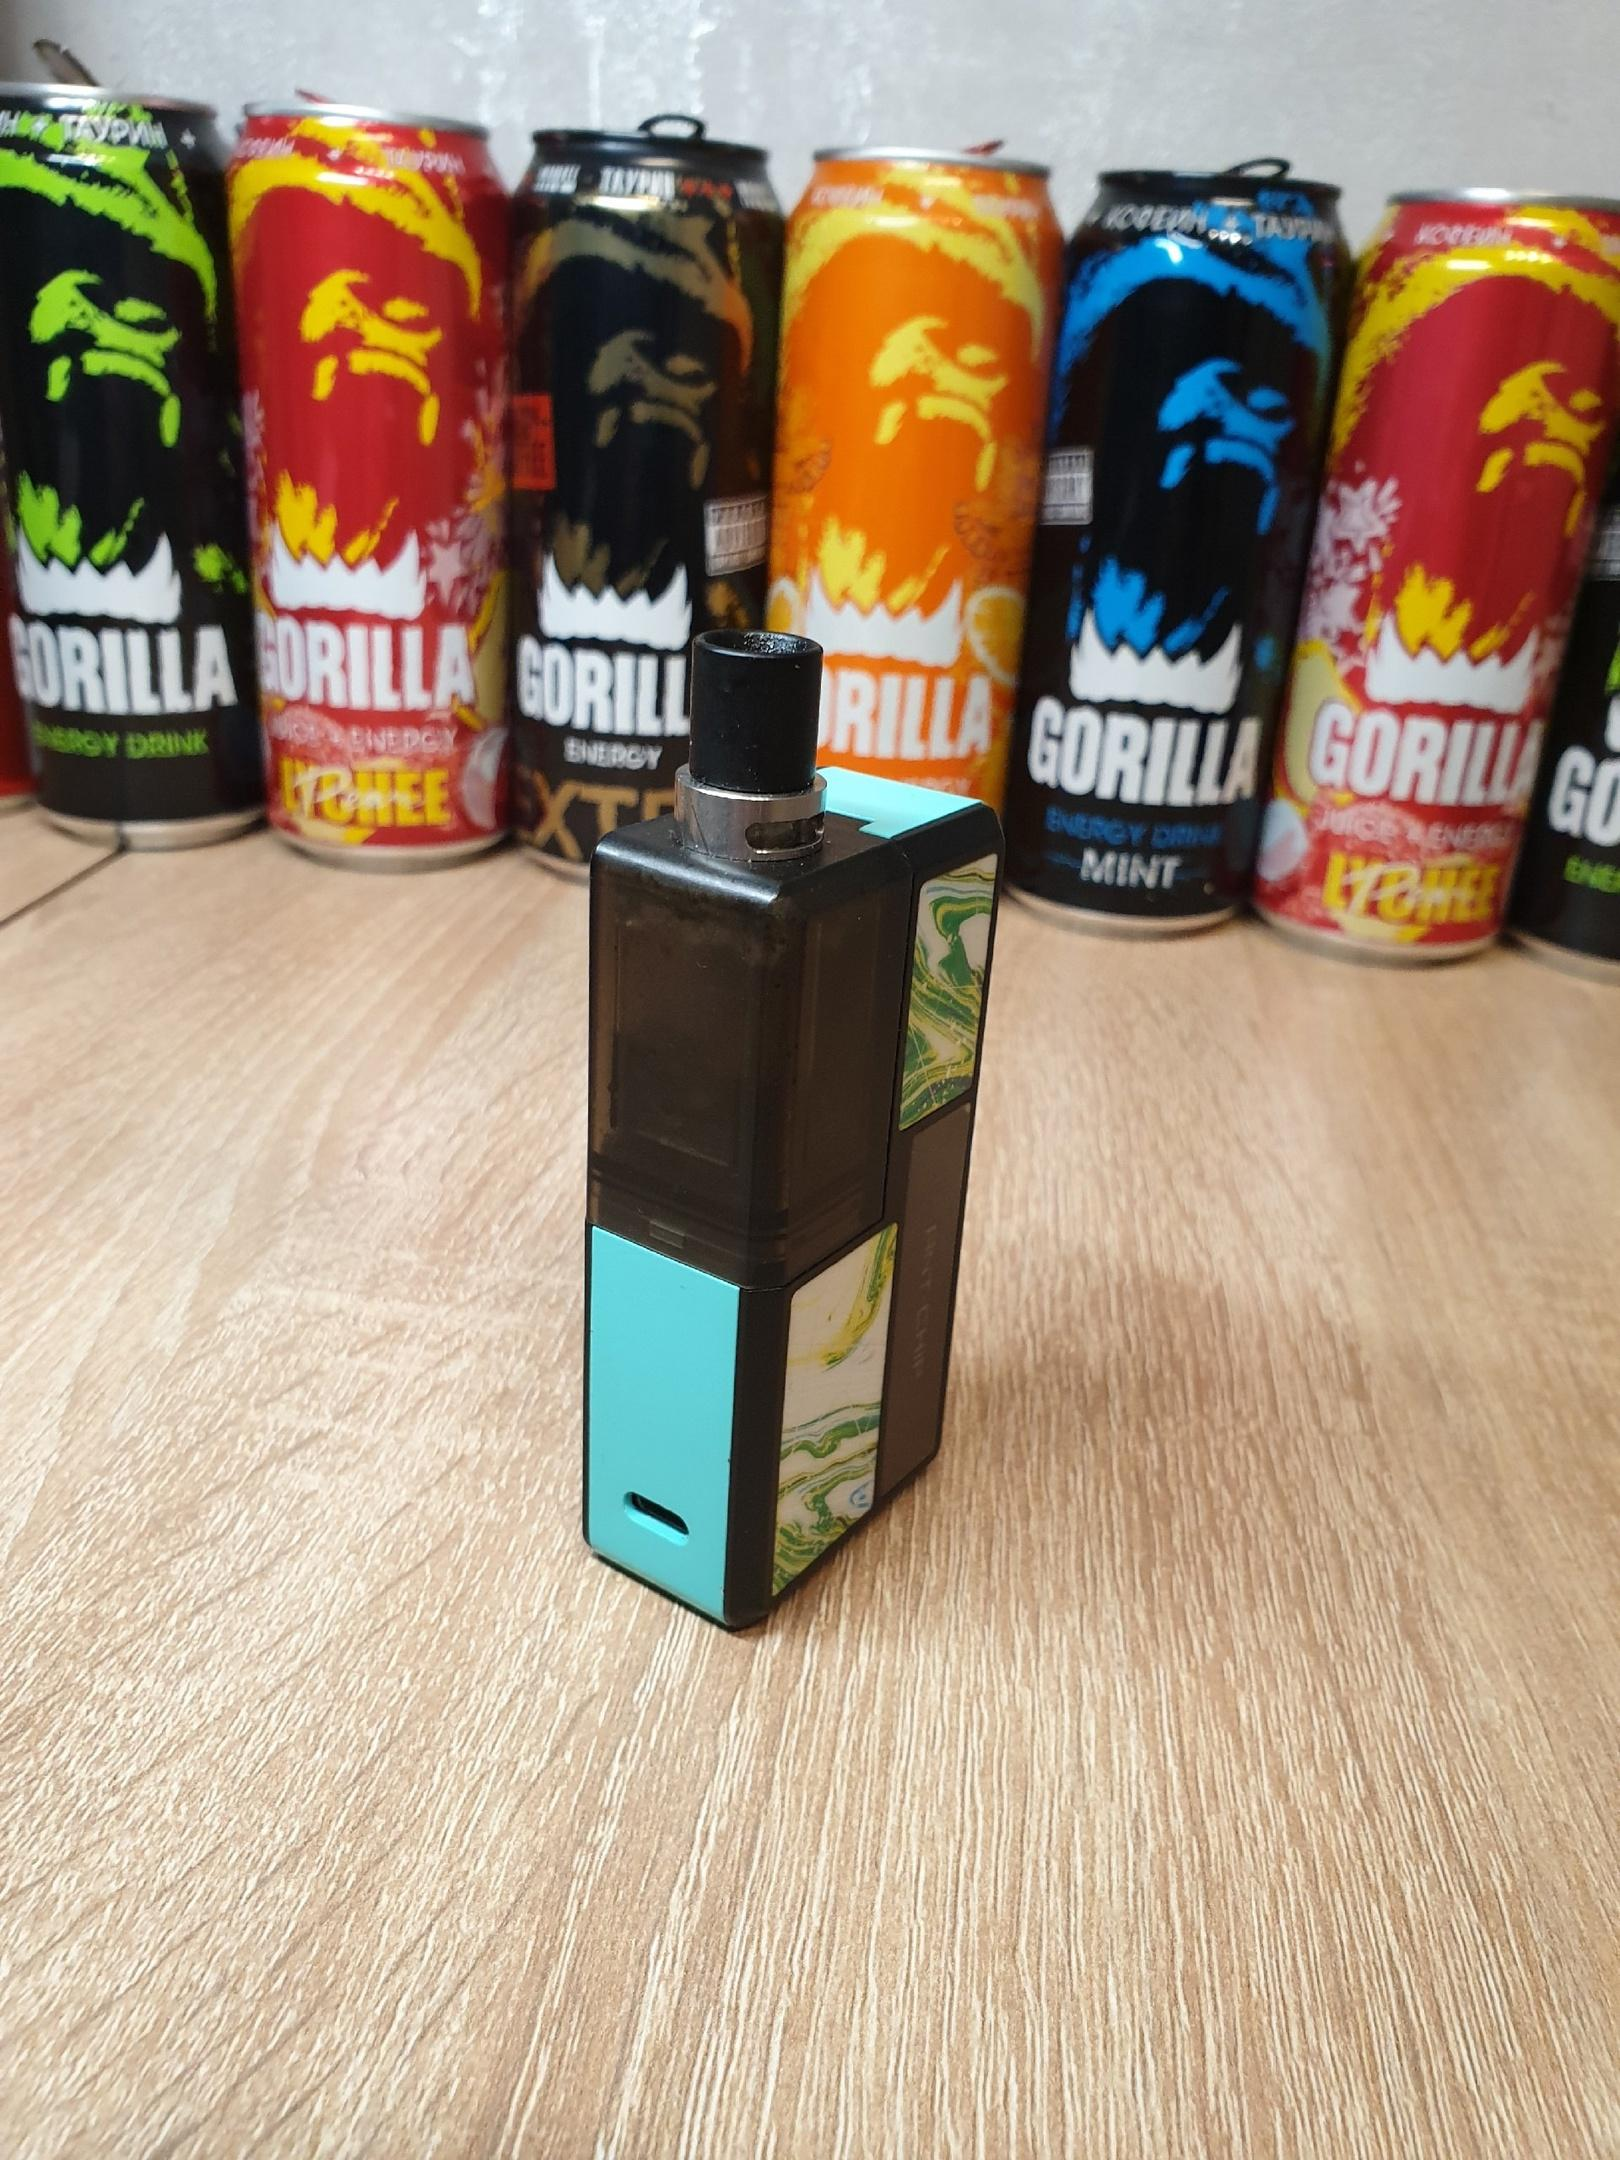Vape: (584, 631, 999, 1626)
